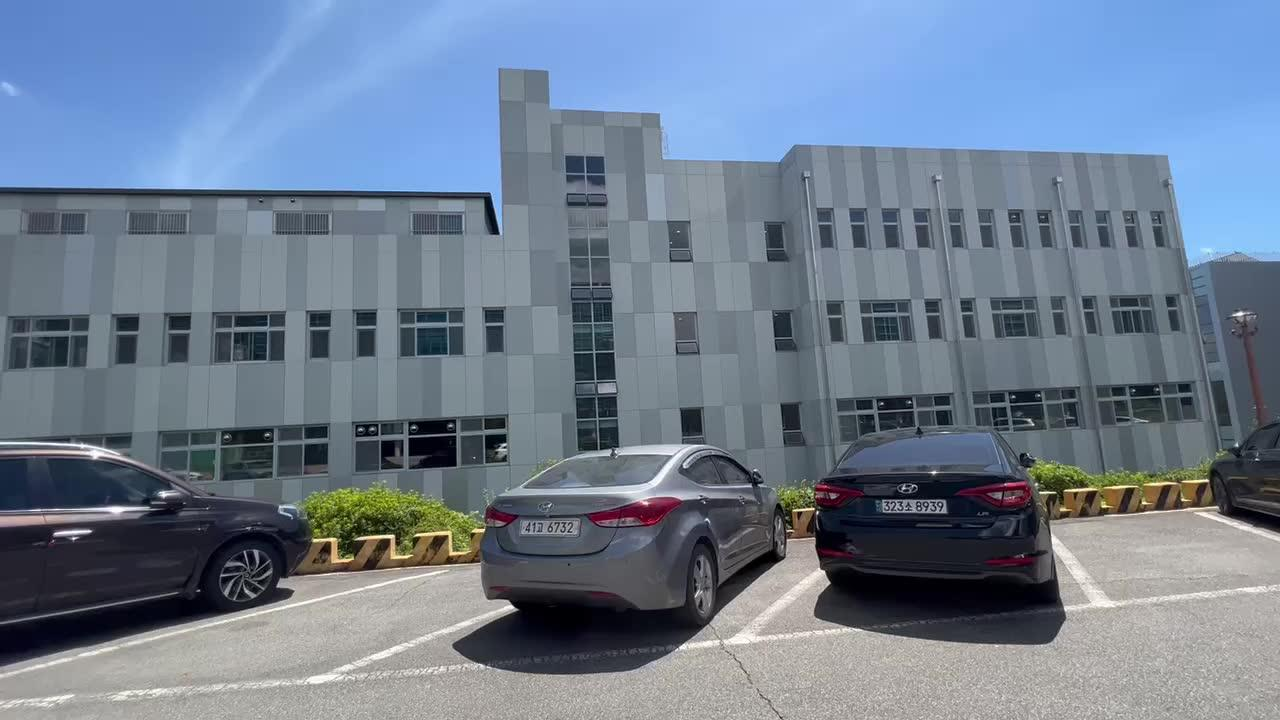building: (0, 52, 1230, 423)
